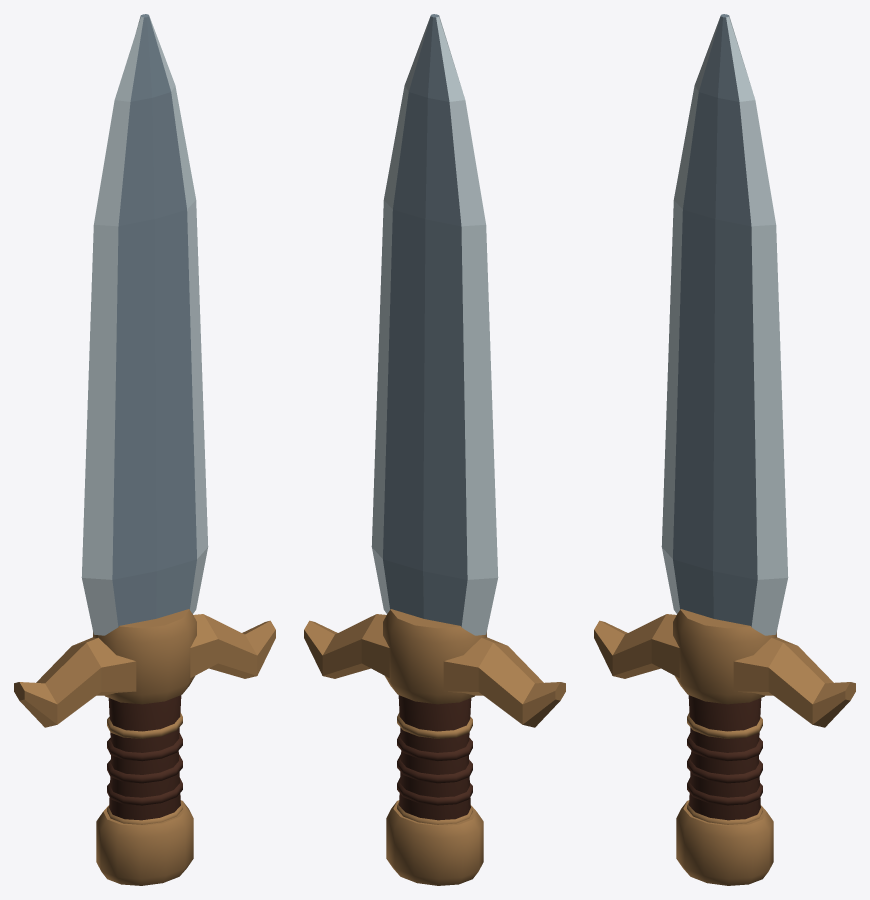
File: sword.glb
The picture shows the model from 3 angles, left to right: view 1: azimuth 30°, elevation 25°; view 2: azimuth 150°, elevation 25°; view 3: azimuth 330°, elevation 25°; orthographic projection.
Visible parts, largest first — view 1: Body; view 2: Body; view 3: Body.
Boxes of the visible parts, bbox=[...] form: Body: bbox=[14, 14, 275, 885]; Body: bbox=[304, 14, 565, 885]; Body: bbox=[594, 14, 855, 885].
Size of the model in its own units: 0.3937 by 1.28 by 0.1267.
